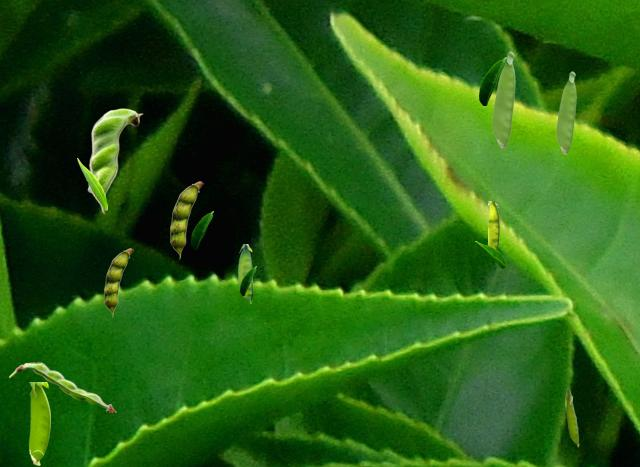pea: (87, 108, 142, 213), (9, 362, 115, 411), (170, 181, 202, 258), (492, 51, 514, 147), (104, 248, 132, 316), (29, 382, 49, 464), (556, 71, 575, 153), (565, 388, 578, 446), (238, 244, 251, 302), (488, 201, 498, 249)
